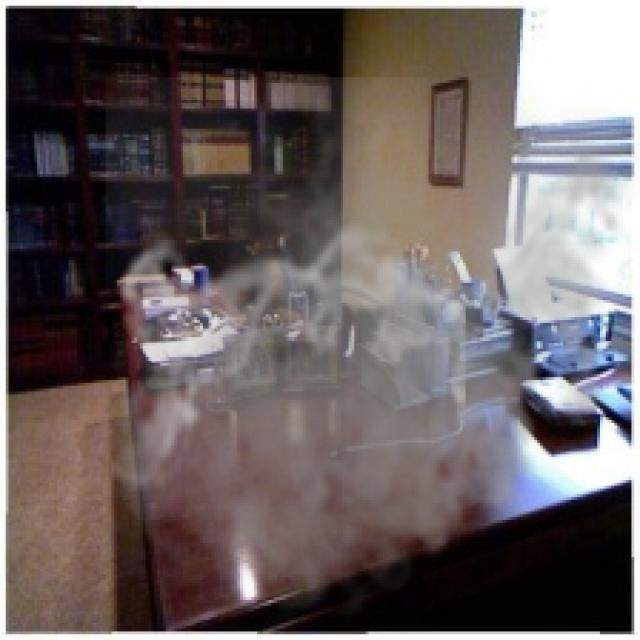Smoke: (105, 77, 638, 634)
